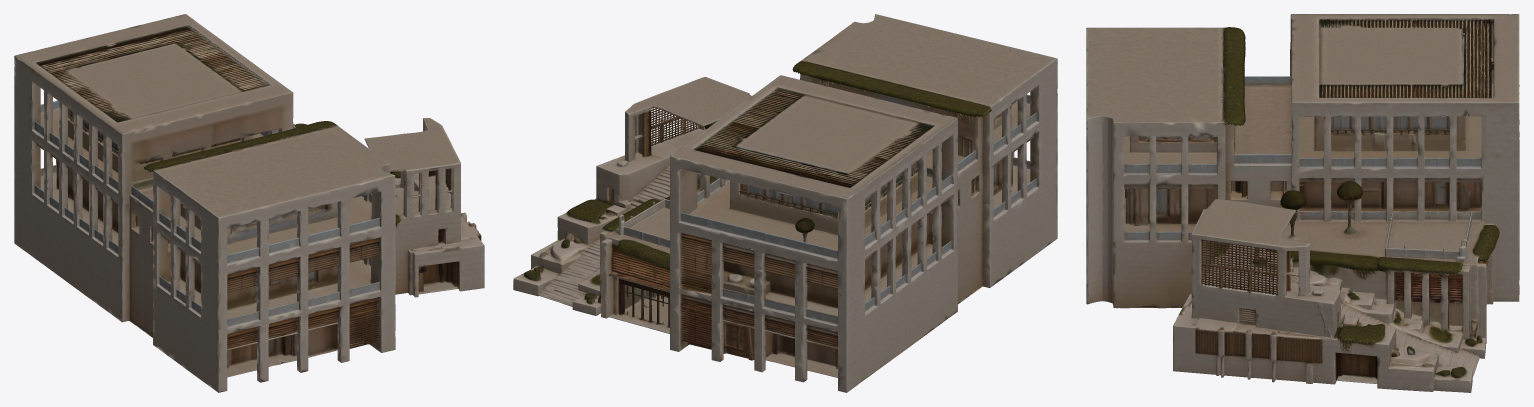
Rendered from shopstair.glb.
3 renders of one model, left to right at view 1: azimuth 30°, elevation 25°; view 2: azimuth 150°, elevation 25°; view 3: azimuth 270°, elevation 25°, orthographic. The views are drawn at different scales.
Visible parts, largest first — view 1: tripo_node_094b18f9-1ee7-409b-b2a1-6b250812594e; view 2: tripo_node_094b18f9-1ee7-409b-b2a1-6b250812594e; view 3: tripo_node_094b18f9-1ee7-409b-b2a1-6b250812594e.
Boxes of the visible parts, <box> form: tripo_node_094b18f9-1ee7-409b-b2a1-6b250812594e: <box>14,14,484,392</box>; tripo_node_094b18f9-1ee7-409b-b2a1-6b250812594e: <box>513,14,1057,392</box>; tripo_node_094b18f9-1ee7-409b-b2a1-6b250812594e: <box>1086,14,1519,392</box>.
Size of the model in its own units: 23.2 by 12 by 23.5.
1 material, 1 textured.
